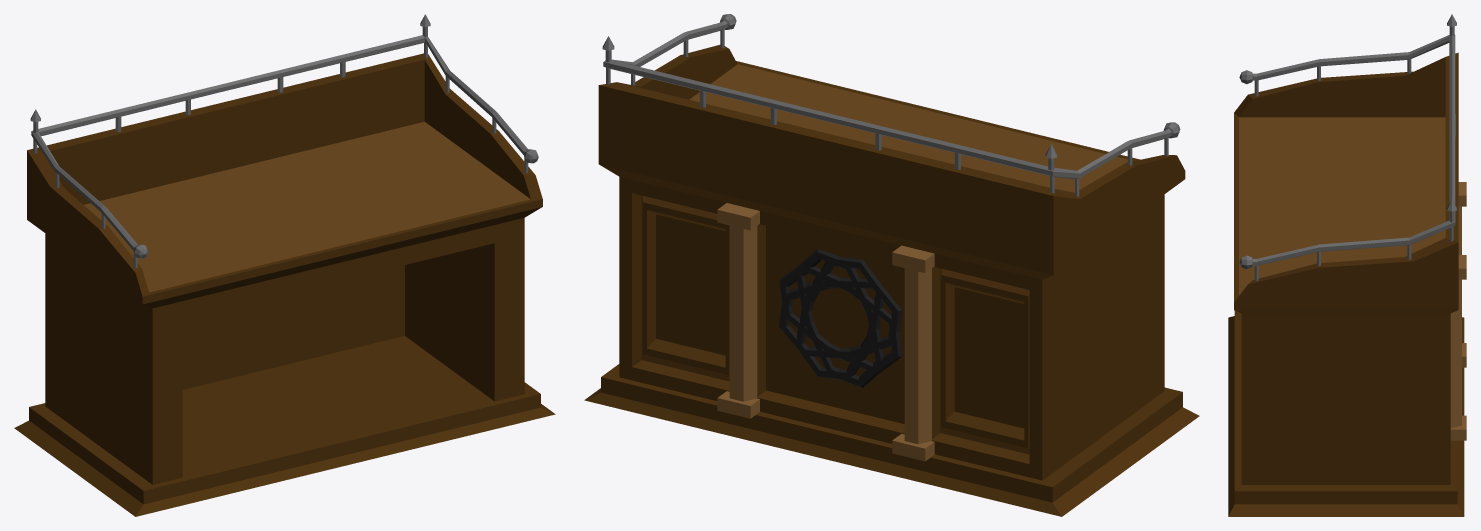
File: MesaJuezEscenario2.fbx
3 renders of one model, left to right at view 1: azimuth 30°, elevation 25°; view 2: azimuth 150°, elevation 25°; view 3: azimuth 270°, elevation 25°, orthographic. The views are drawn at different scales.
Parts seen in each view (by area): view 1: Box002; view 2: Box002; view 3: Box002.
Part boxes in pixels (box(x1,y1,x2,y2)): Box002: box(14, 14, 555, 516); Box002: box(584, 14, 1199, 516); Box002: box(1228, 14, 1466, 516).
Bounding box in the file's own units: 106 × 76.94 × 53.47.
